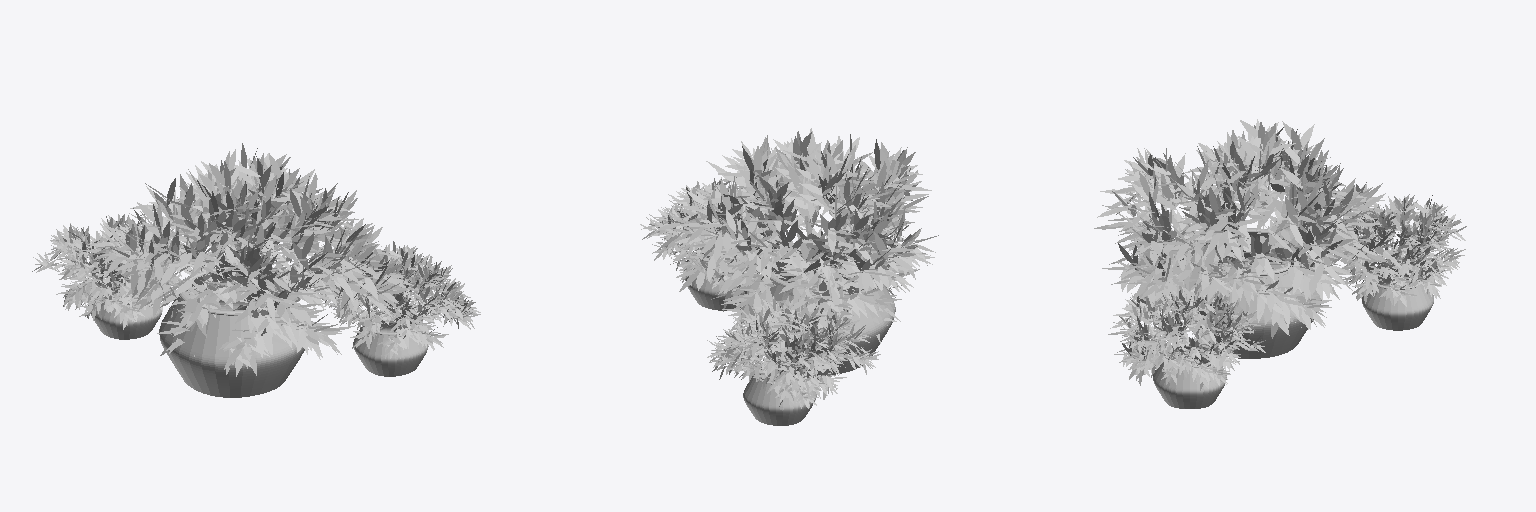
File: pot.obj
The picture shows the model from 3 angles: view 1: azimuth 30°, elevation 25°; view 2: azimuth 150°, elevation 25°; view 3: azimuth 270°, elevation 25°; orthographic projection.
Visible parts, largest first — view 1: leaves, Cube.020_Cube.006, leaves.001, leaves.002, Cube.021, Cube.022; view 2: leaves, leaves.002, Cube.020_Cube.006, Cube.022, leaves.001, Cube.021; view 3: leaves, leaves.001, leaves.002, Cube.020_Cube.006, Cube.022, Cube.021.
Part boxes in pixels (x1,y1,x2,y2): leaves: (81,143,413,376); Cube.020_Cube.006: (159,268,304,397); leaves.001: (320,241,480,358); leaves.002: (32,214,181,329); Cube.021: (353,315,428,376); Cube.022: (91,277,161,339); leaves: (651,128,938,343); leaves.002: (707,296,880,408); Cube.020_Cube.006: (761,244,895,374); Cube.022: (743,362,816,425); leaves.001: (640,177,780,288); Cube.021: (685,249,751,310); leaves: (1094,119,1401,338); leaves.001: (1108,281,1265,390); leaves.002: (1334,194,1466,306); Cube.020_Cube.006: (1190,228,1321,358); Cube.022: (1362,266,1433,330); Cube.021: (1153,344,1226,408).
Bounding box in the file's own units: 3.15 × 1.89 × 3.26.